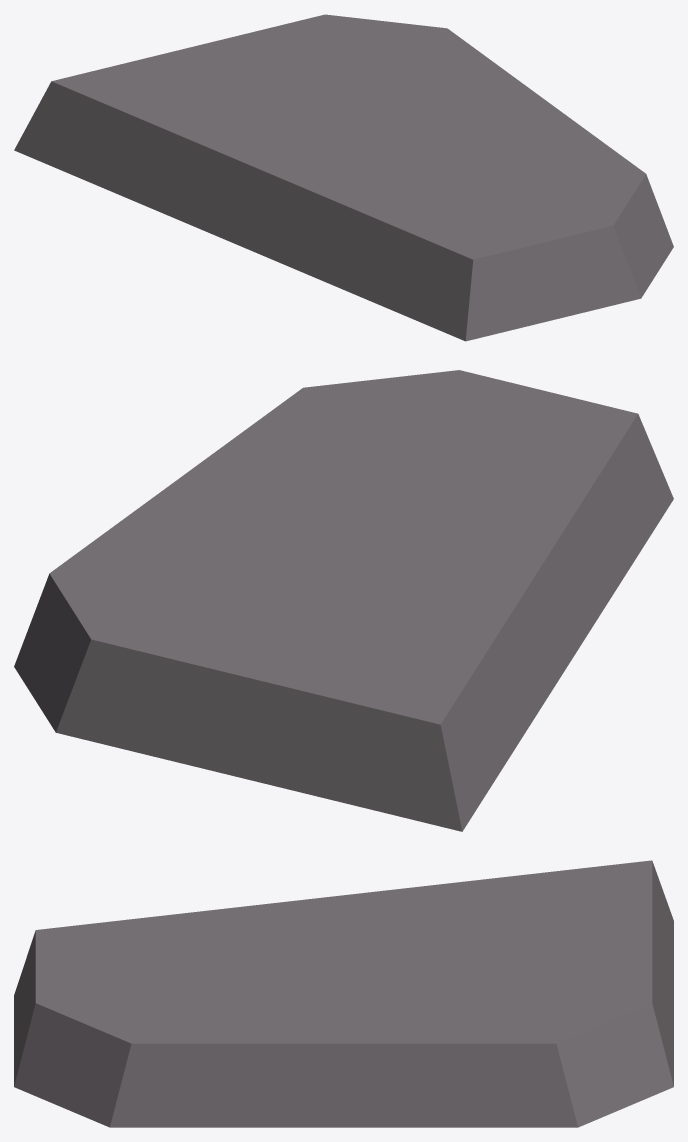
File: Rock_Tile_m_15.fbx
3 renders of one model, top to bottom at view 1: azimuth 30°, elevation 25°; view 2: azimuth 150°, elevation 25°; view 3: azimuth 270°, elevation 25°, orthographic. The views are drawn at different scales.
Visible parts, largest first — view 1: Rock_Tile_m_15; view 2: Rock_Tile_m_15; view 3: Rock_Tile_m_15.
Part boxes in pixels (left/top/right/bottom): Rock_Tile_m_15: left=14, top=14, right=673, bottom=341; Rock_Tile_m_15: left=14, top=370, right=673, bottom=831; Rock_Tile_m_15: left=14, top=860, right=673, bottom=1127.
Size of the model in its own units: 29.63 by 5 by 40.
